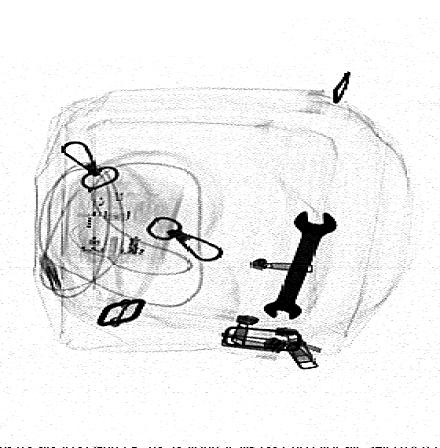Wrench: (264, 211, 337, 321)
